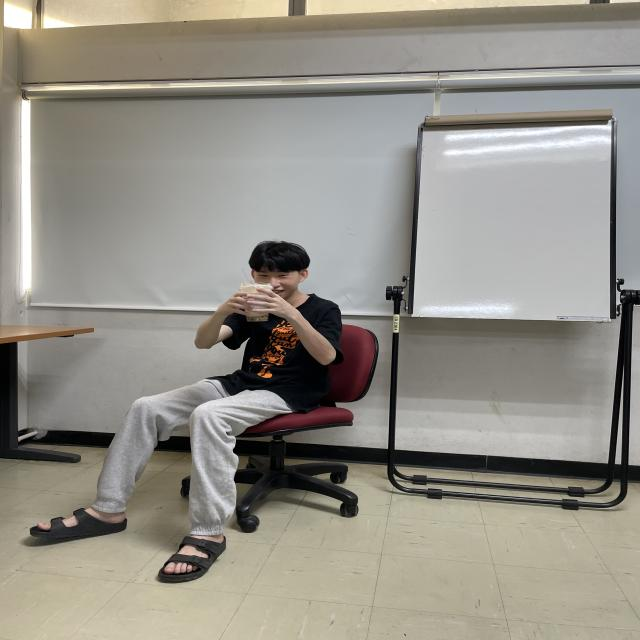cup: (238, 282, 277, 324)
